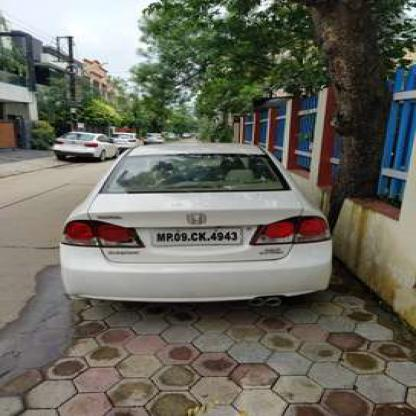license_plate: (150, 227, 240, 243)
